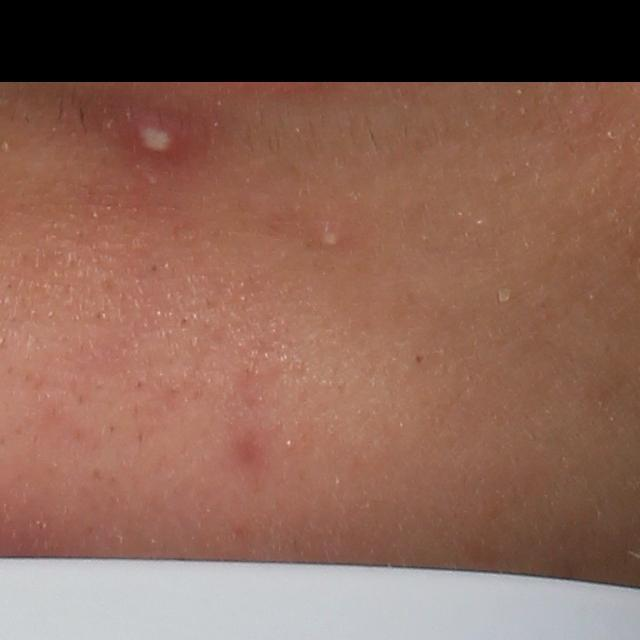pustule: (127, 117, 201, 169)
